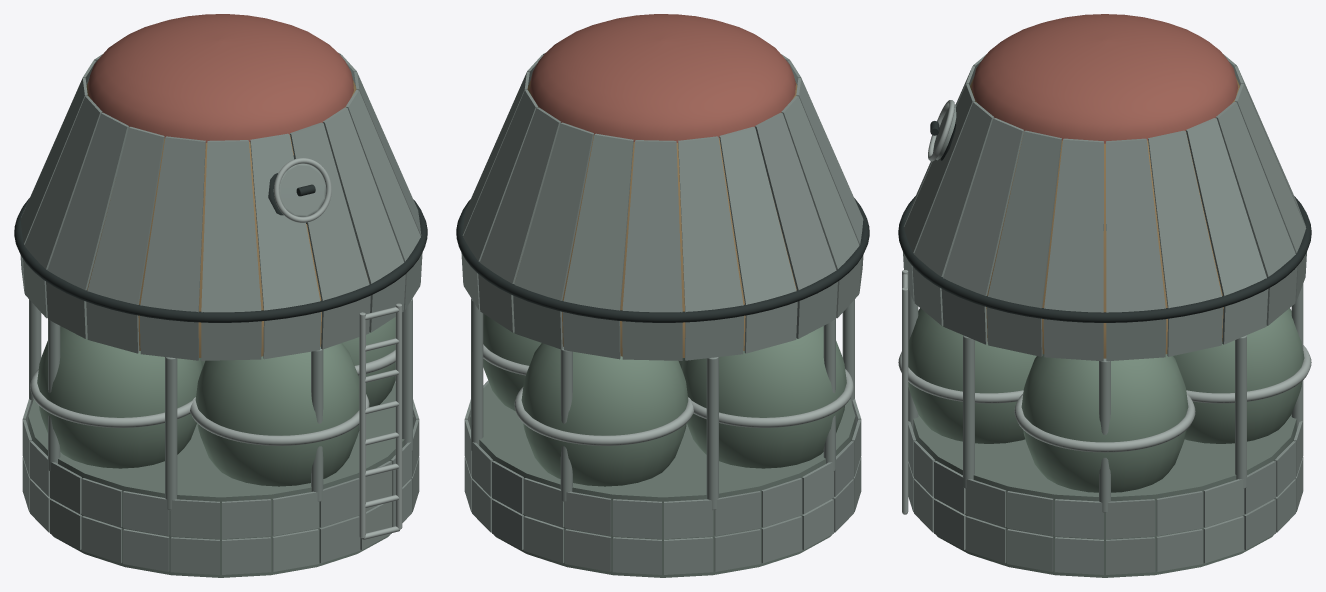
3 renders of one model, left to right at view 1: azimuth 30°, elevation 25°; view 2: azimuth 150°, elevation 25°; view 3: azimuth 270°, elevation 25°, orthographic.
Parts seen in each view (by area): view 1: Individual storage hood panels, Storage vessel structural belt, Storage hood cap, Exposed storage bulb.003, Exposed storage bulb.002, Storage belt, Hood service gasket, Vessel equatorial clamp.003, Storage vertical cage rail.005, Exposed storage bulb, Storage instrument access lid, Storage upper hood (+8 smaller); view 2: Individual storage hood panels, Storage vessel structural belt, Storage hood cap, Exposed storage bulb.001, Exposed storage bulb.002, Storage belt, Hood service gasket, Exposed storage bulb, Vessel equatorial clamp.001, Storage upper hood, Storage vertical cage rail.003, Vessel equatorial clamp.002 (+5 smaller); view 3: Individual storage hood panels, Storage vessel structural belt, Storage hood cap, Exposed storage bulb, Storage belt, Exposed storage bulb.001, Exposed storage bulb.003, Hood service gasket, Vessel equatorial clamp, Storage upper hood, Storage vertical cage rail.001, Storage vertical cage rail.007 (+7 smaller).
Boxes of the visible parts, <box> form: Individual storage hood panels: <box>20,52,422,360</box>; Storage vessel structural belt: <box>22,381,419,574</box>; Storage hood cap: <box>88,14,353,142</box>; Exposed storage bulb.003: <box>195,343,359,486</box>; Exposed storage bulb.002: <box>37,326,202,468</box>; Storage belt: <box>28,383,413,577</box>; Hood service gasket: <box>14,198,427,322</box>; Vessel equatorial clamp.003: <box>190,394,369,445</box>; Storage vertical cage rail.005: <box>165,357,177,510</box>; Exposed storage bulb: <box>342,317,395,407</box>; Storage instrument access lid: <box>279,163,325,216</box>; Storage upper hood: <box>86,81,356,357</box>; Individual storage hood panels: <box>461,52,863,360</box>; Storage vessel structural belt: <box>464,380,861,574</box>; Storage hood cap: <box>530,14,795,142</box>; Exposed storage bulb.001: <box>521,343,688,486</box>; Exposed storage bulb.002: <box>681,326,846,468</box>; Storage belt: <box>470,383,855,577</box>; Hood service gasket: <box>456,198,869,322</box>; Exposed storage bulb: <box>483,314,541,410</box>; Vessel equatorial clamp.001: <box>514,387,693,445</box>; Storage upper hood: <box>527,81,797,357</box>; Storage vertical cage rail.003: <box>706,357,718,510</box>; Vessel equatorial clamp.002: <box>688,369,853,427</box>; Individual storage hood panels: <box>903,54,1306,361</box>; Storage vessel structural belt: <box>908,420,1303,574</box>; Storage hood cap: <box>971,14,1238,143</box>; Exposed storage bulb: <box>1021,354,1188,492</box>; Storage belt: <box>913,414,1296,577</box>; Exposed storage bulb.001: <box>1173,308,1304,443</box>; Exposed storage bulb.003: <box>908,308,1036,443</box>; Hood service gasket: <box>898,196,1311,322</box>; Vessel equatorial clamp: <box>1014,393,1195,452</box>; Storage upper hood: <box>970,77,1239,358</box>; Storage vertical cage rail.001: <box>1235,335,1246,488</box>; Storage vertical cage rail.007: <box>963,335,974,488</box>.
Bounding box in the file's own units: 1.68 × 2.04 × 1.68.
